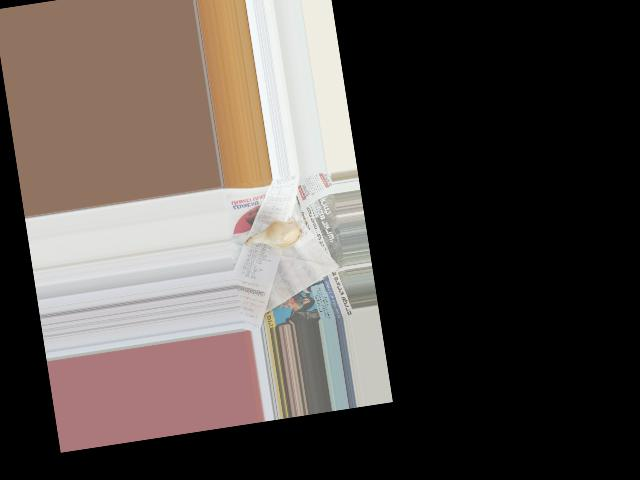onion: (257, 217, 307, 254)
